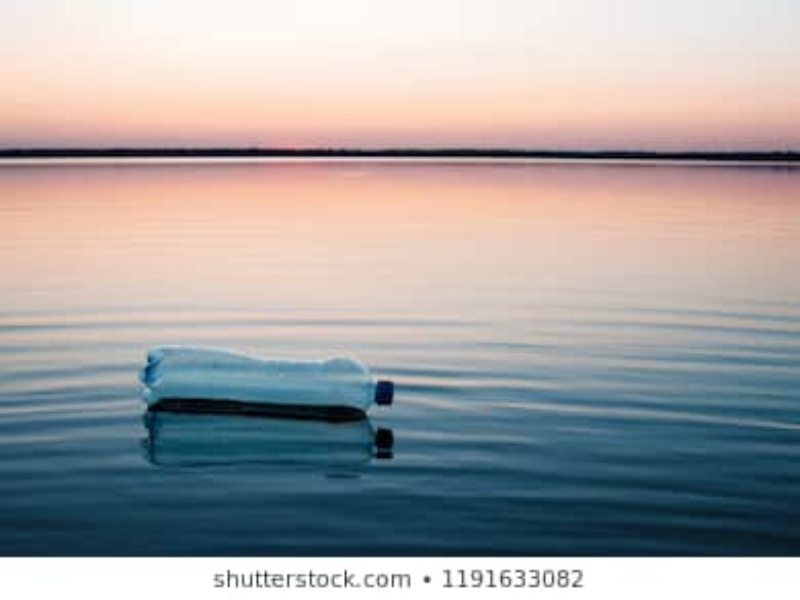bottle-cap: (375, 376, 396, 410)
plastic-bottle: (138, 342, 397, 422)
